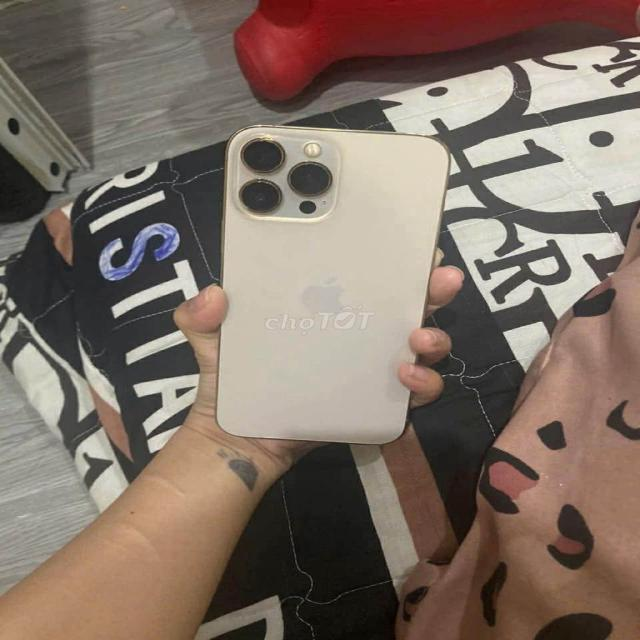gen_12_13: (207, 118, 460, 452)
